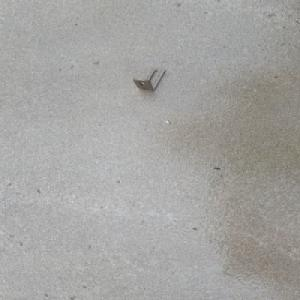MetalPart: (131, 67, 167, 91)
